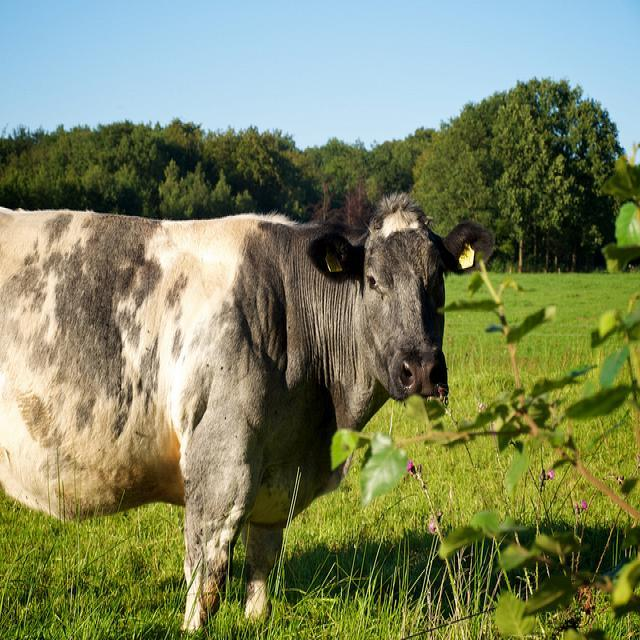cow: (0, 192, 495, 639)
